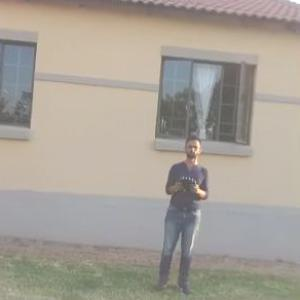follow: (152, 130, 210, 298)
